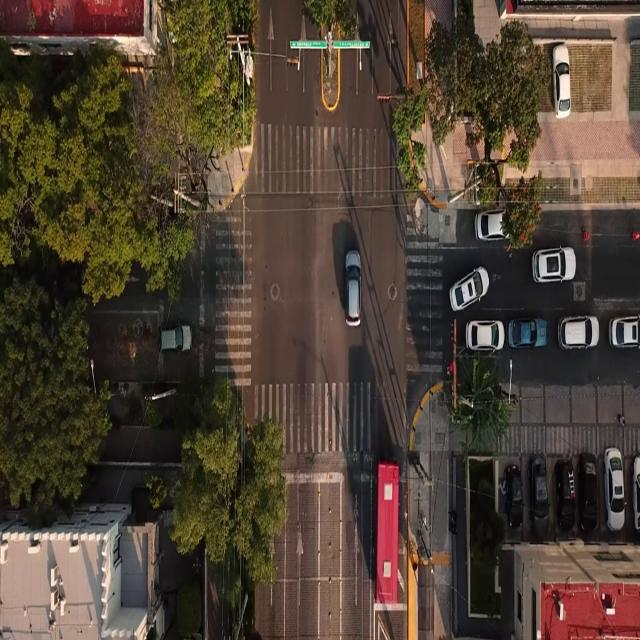car: (450, 267, 489, 311), (528, 456, 548, 540), (604, 448, 624, 531), (532, 248, 576, 282), (555, 458, 575, 530), (579, 453, 597, 531), (558, 316, 599, 349), (552, 44, 570, 118), (466, 320, 504, 351), (507, 319, 547, 348), (345, 250, 360, 326), (505, 465, 522, 527), (609, 316, 639, 347), (476, 209, 505, 240), (160, 326, 191, 351), (633, 456, 639, 532)
